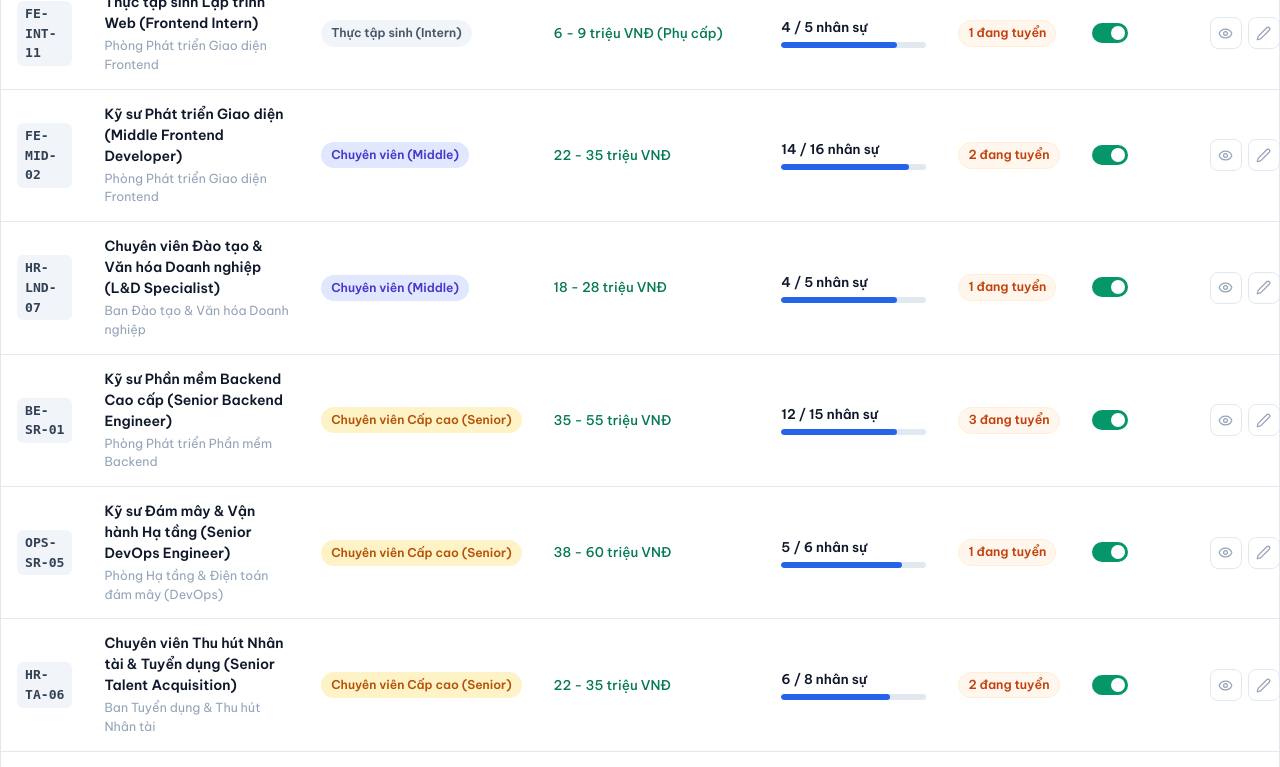
Test case: Job Title Management Page (Quản lý Chức danh & Vị trí - EP-02) › opens detail modal when clicking a job title
(page scrolled)
Click on title link
Click the text "Kỹ sư Phần mềm Backend Cao cấp (Senior Backend Engineer)": coordinates (197, 400) [104,368,289,432]
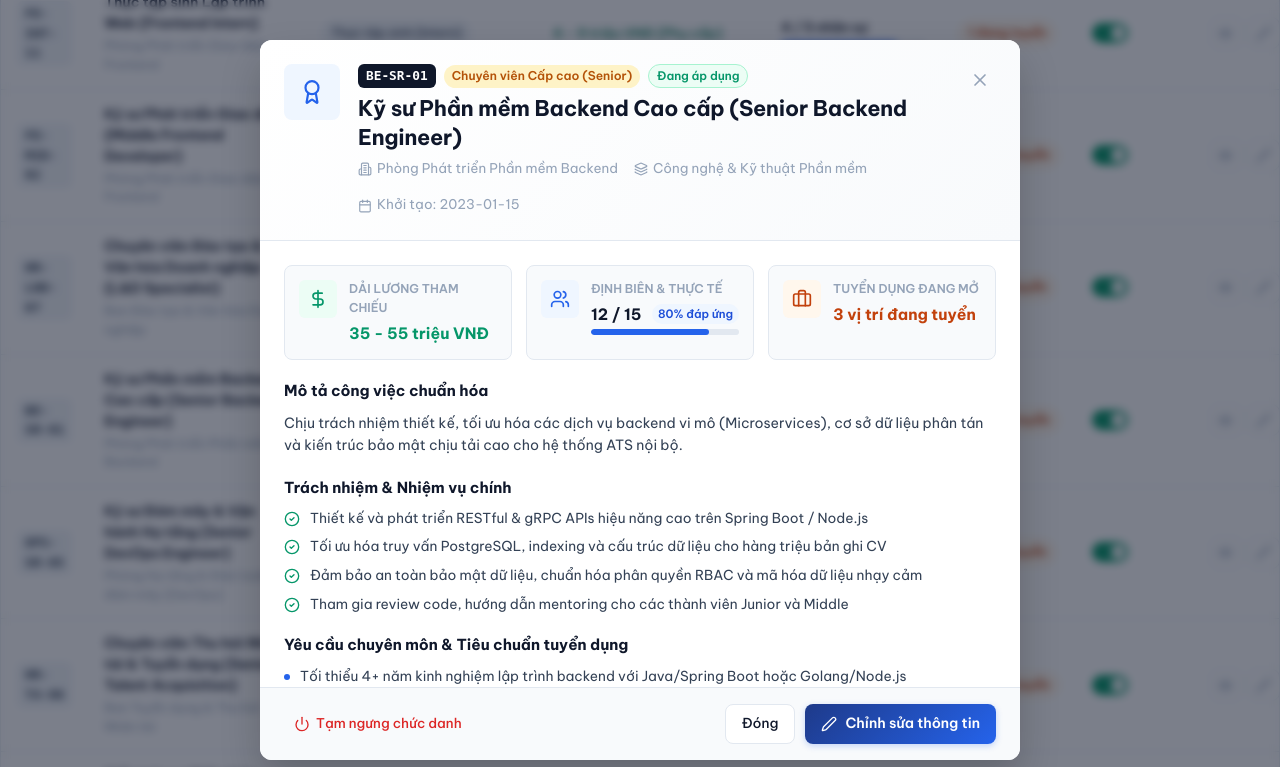
Expected: the heading "Mô tả công việc chuẩn hóa" is shown, [284,381,488,400]
Expected: the heading "Trách nhiệm & Nhiệm vụ chính" is shown, [284,478,512,497]
Close detail modal
Click the button named "Đóng chi tiết": coordinates (980, 80) [964,64,996,96]
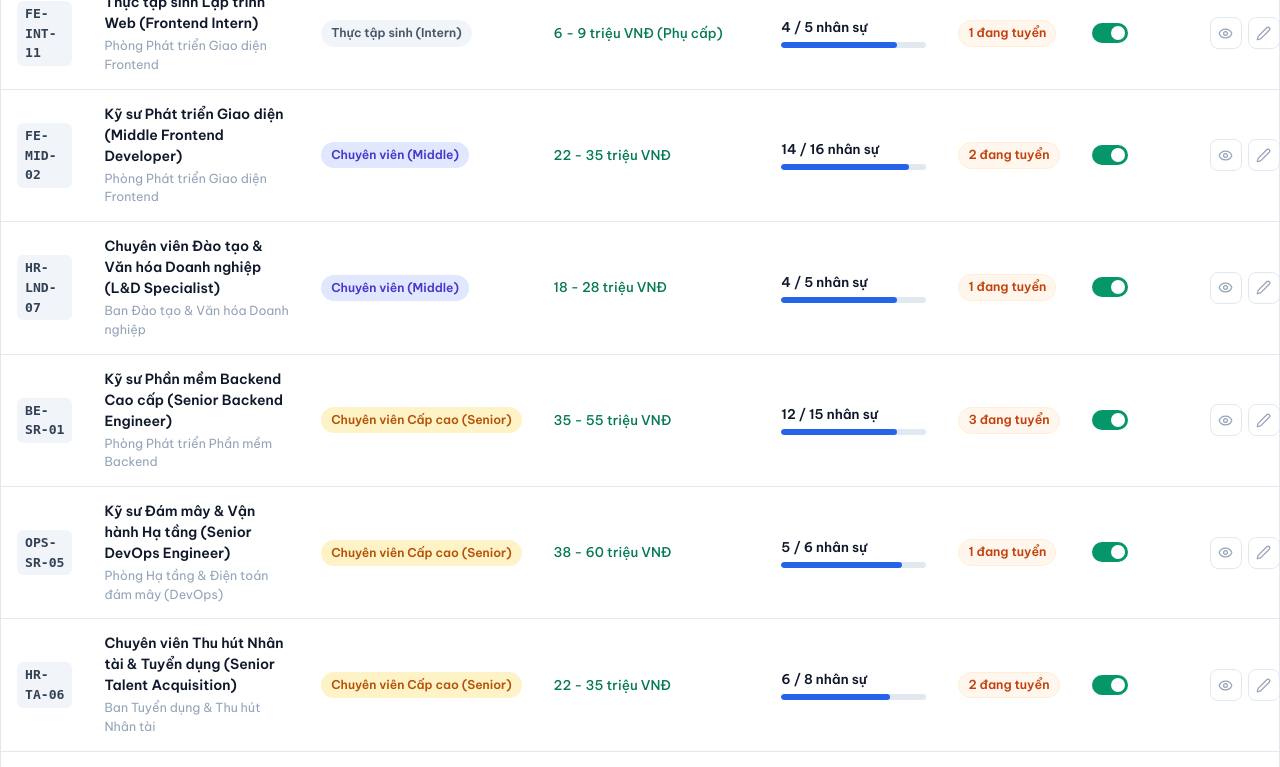
Expected: the heading "Mô tả công việc chuẩn hóa" is gone
